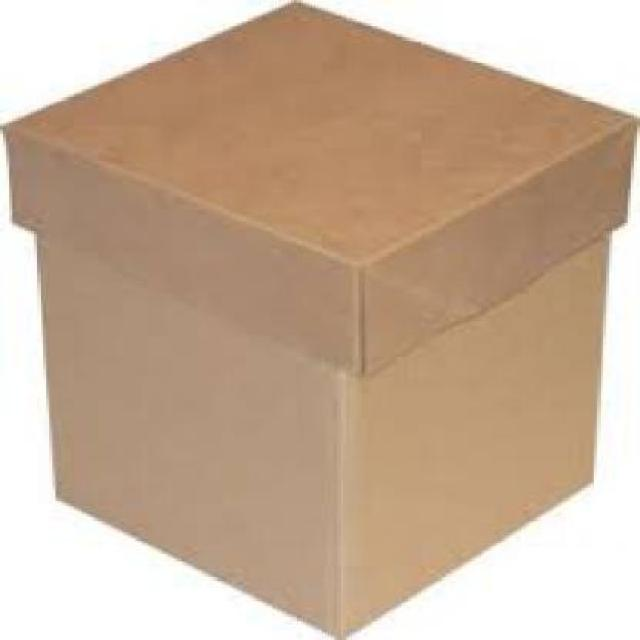CARDBOARD: (0, 0, 638, 638), (0, 0, 637, 372), (31, 228, 606, 638)
